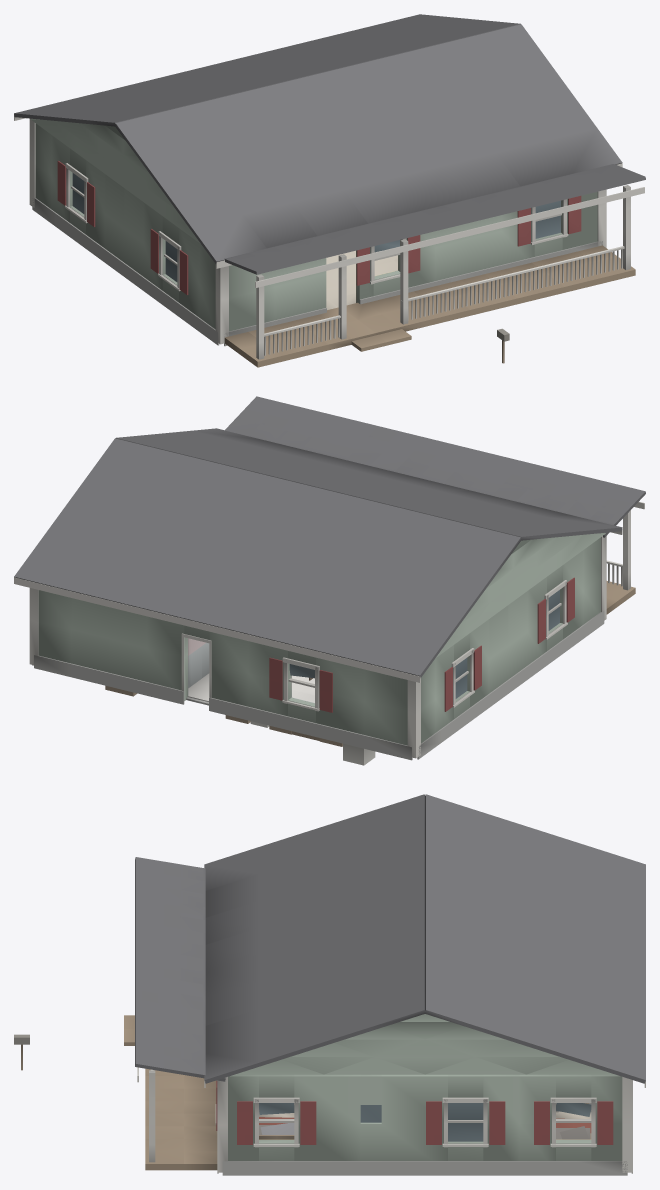
The model's file is casa_us_6.glb.
The picture shows the model from 3 angles, top to bottom: view 1: azimuth 30°, elevation 25°; view 2: azimuth 150°, elevation 25°; view 3: azimuth 270°, elevation 25°; orthographic projection. The views are drawn at different scales.
Parts seen in each view (by area): view 1: longe, ext, detalhe, dentro; view 2: longe, ext, detalhe, dentro; view 3: longe, ext, detalhe, dentro, cama_quarto10.
Part boxes in pixels (bbox=[...]): longe: bbox=[14, 14, 645, 367]; ext: bbox=[29, 118, 606, 346]; detalhe: bbox=[57, 161, 581, 363]; dentro: bbox=[326, 250, 398, 309]; longe: bbox=[14, 396, 645, 682]; ext: bbox=[29, 533, 606, 760]; detalhe: bbox=[105, 577, 574, 712]; dentro: bbox=[186, 638, 314, 705]; longe: bbox=[135, 794, 645, 1170]; ext: bbox=[217, 1014, 632, 1175]; detalhe: bbox=[14, 1015, 613, 1147]; dentro: bbox=[259, 1103, 591, 1139]; cama_quarto10: bbox=[259, 1123, 294, 1139].
Size of what is drawn, in the model's own units: 14.5 by 6.2 by 17.95.
